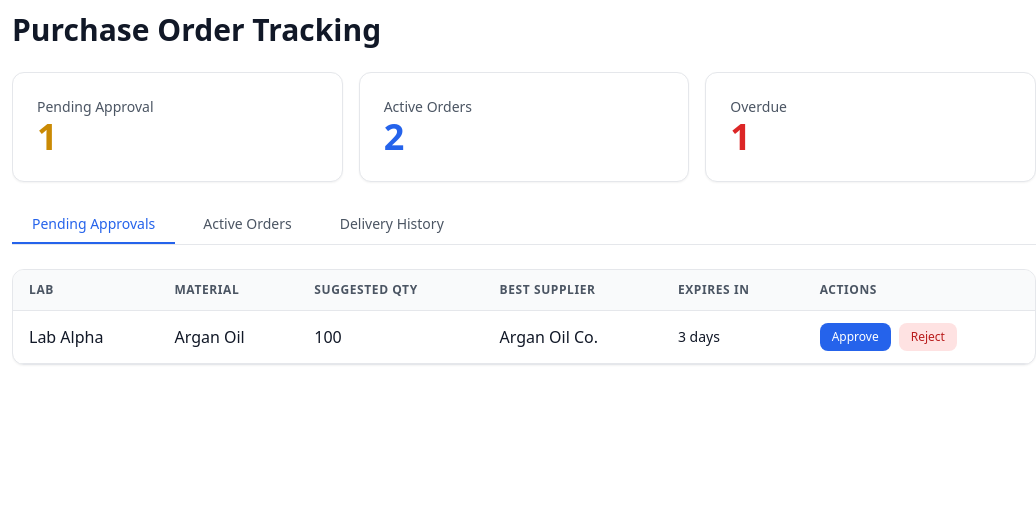
it: POTrackingPage › Active Orders tab shows POs with Mark Received button and highlights overdue rows
// Switch to Active Orders tab
What coordinates should you click on to do the following:
click the tab "Active Orders"
I would click on:
 (248, 225)
Its box is x1=183 y1=206 x2=312 y2=244.
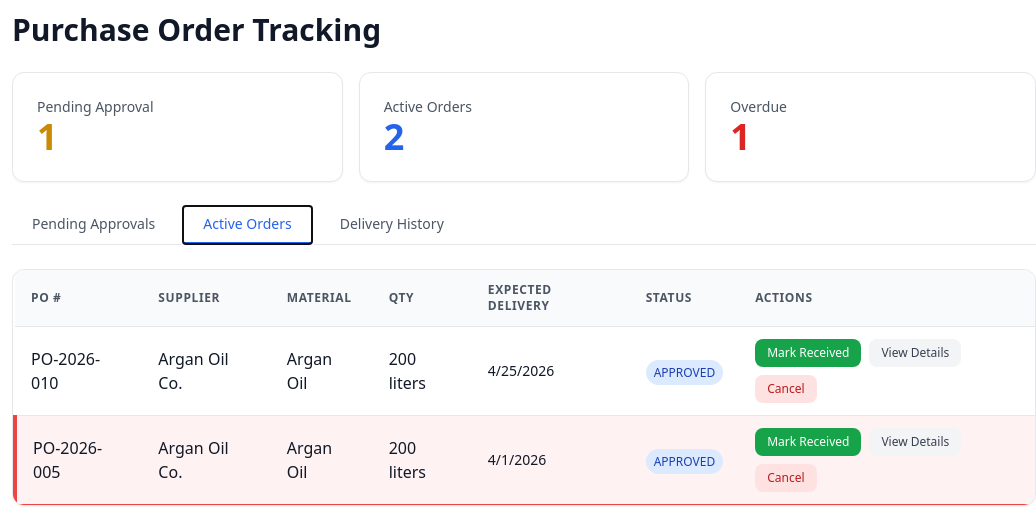
Result: the text "PO-2026-010" is shown at x1=15 y1=327 x2=142 y2=416
Result: the text "PO-2026-005" is shown at x1=15 y1=416 x2=142 y2=504
Result: the row that starts with "PO-2026-005" is shown at x1=15 y1=416 x2=1035 y2=504
